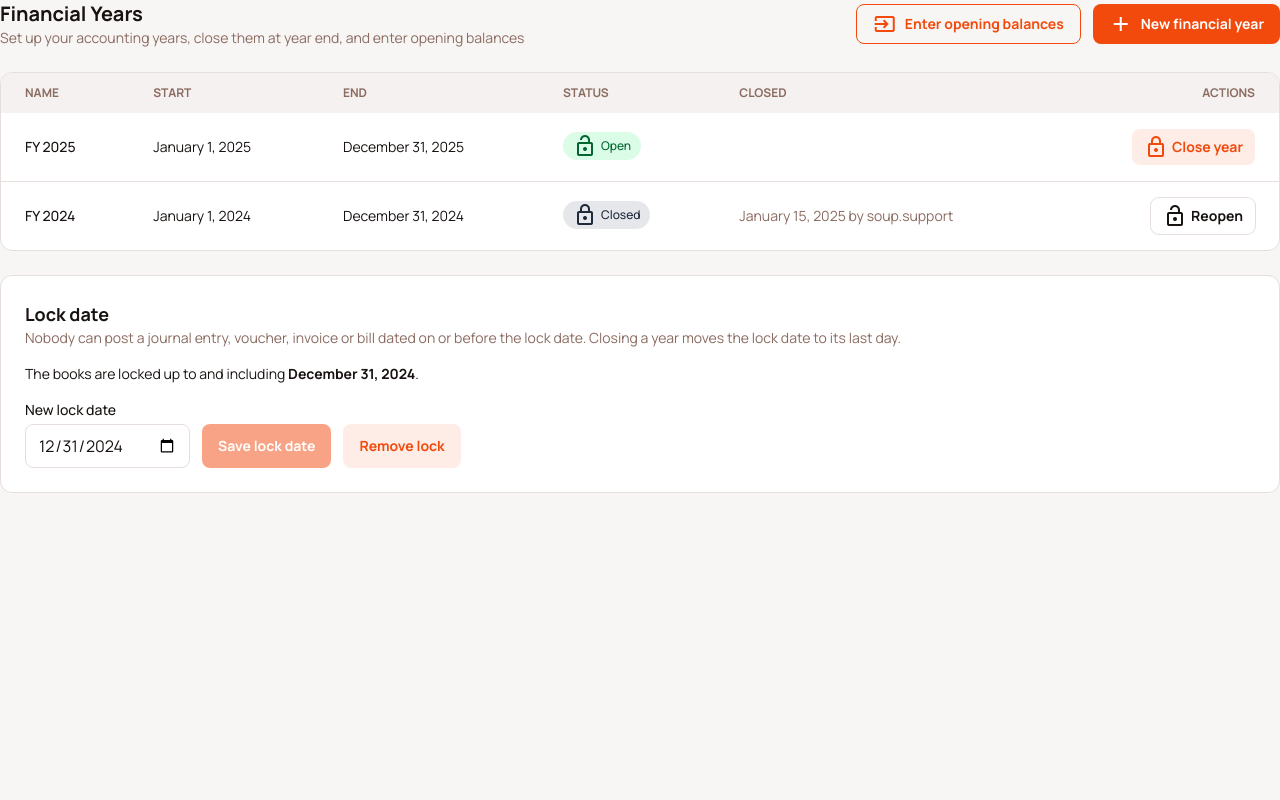
Test: FinancialYearsPage › closes a year once the checklist passes, then refreshes the list
The image size is (1280, 800).
Click the button with test id "close-year-button-fy25": (1193, 147) [1132,129,1255,165]
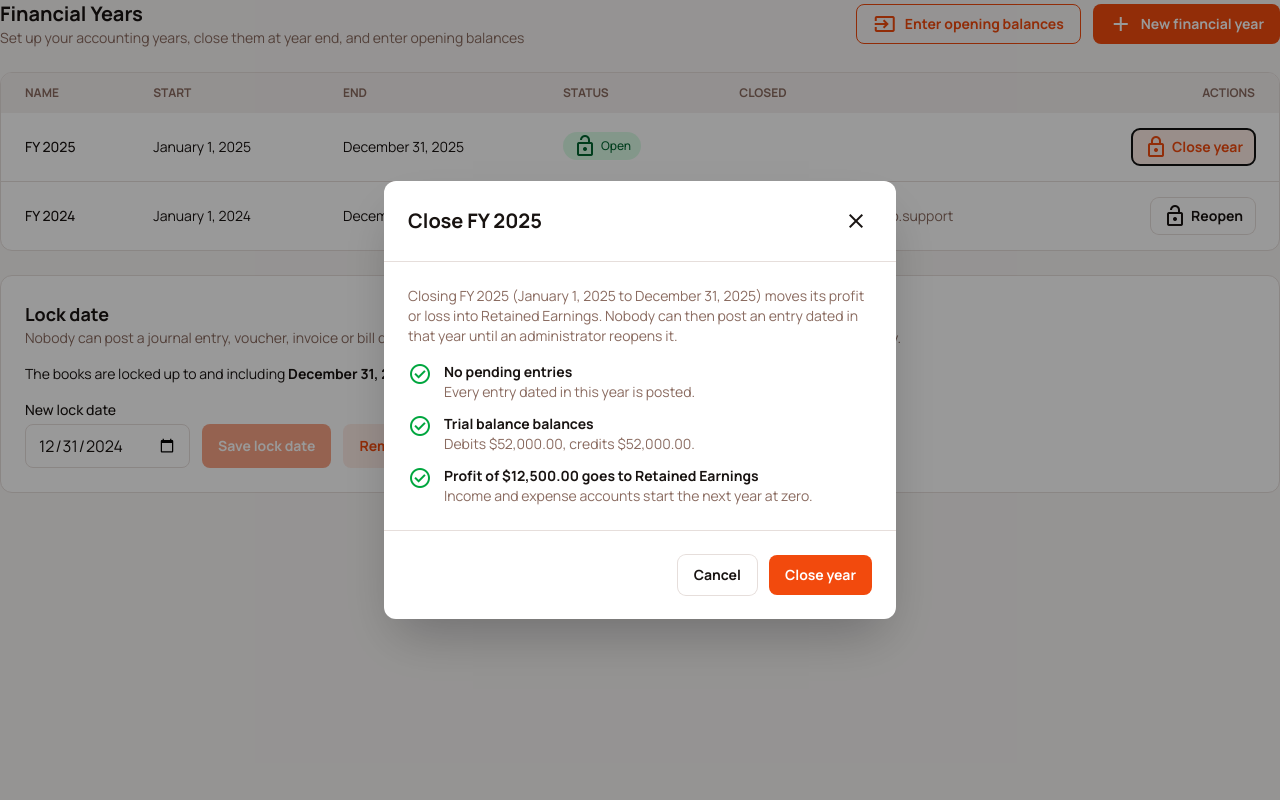
Expected: the list with test id "close-year-checklist" is shown, [408,362,872,506]
Expected: the list item with test id "check-trial-balance" shows "Trial balance balances", [444,414,594,433]
Click the button with test id "close-year-confirm": (820, 575) [769,555,872,595]
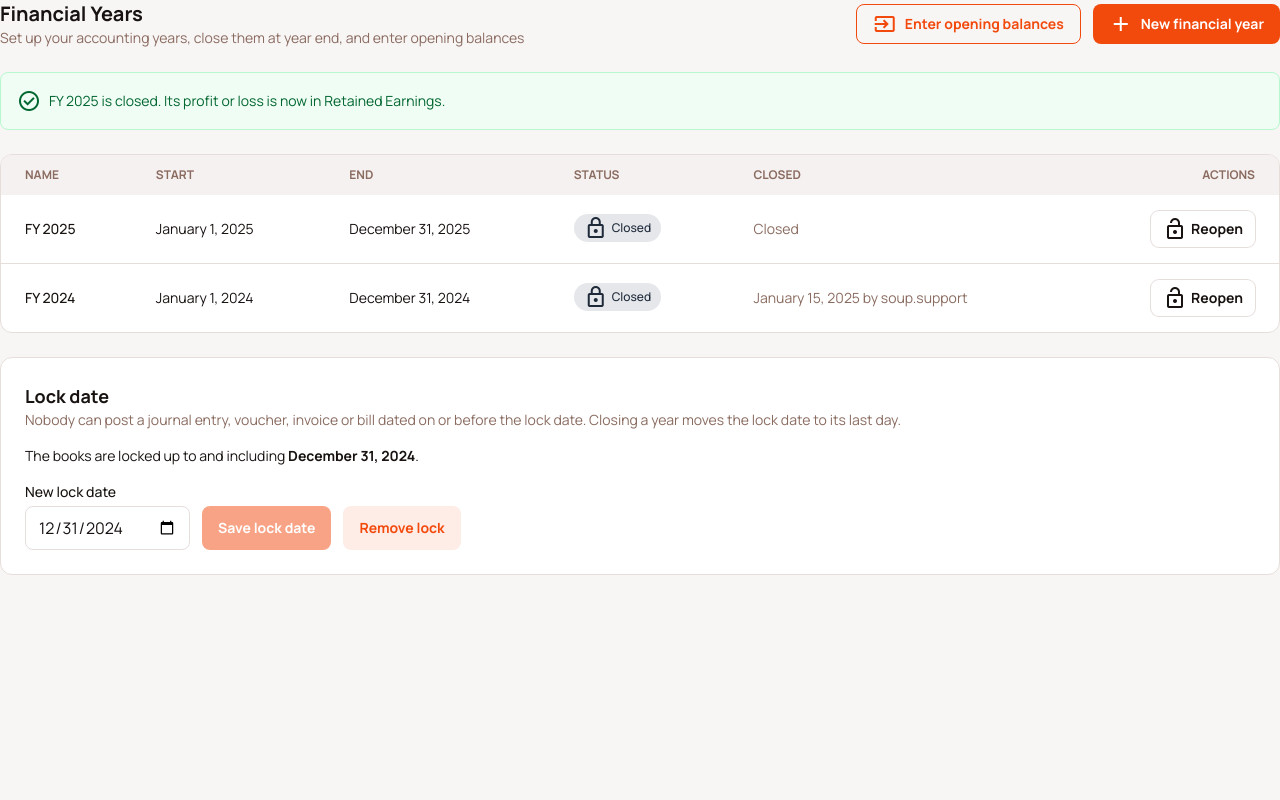
Expected: the message with test id "financial-years-notice" shows "FY 2025 is closed", [49,91,445,110]
Expected: the element with test id "financial-year-status-fy25" reads "Closed", [612,218,651,236]
Expected: the dialog with test id "close-year-dialog" is gone
